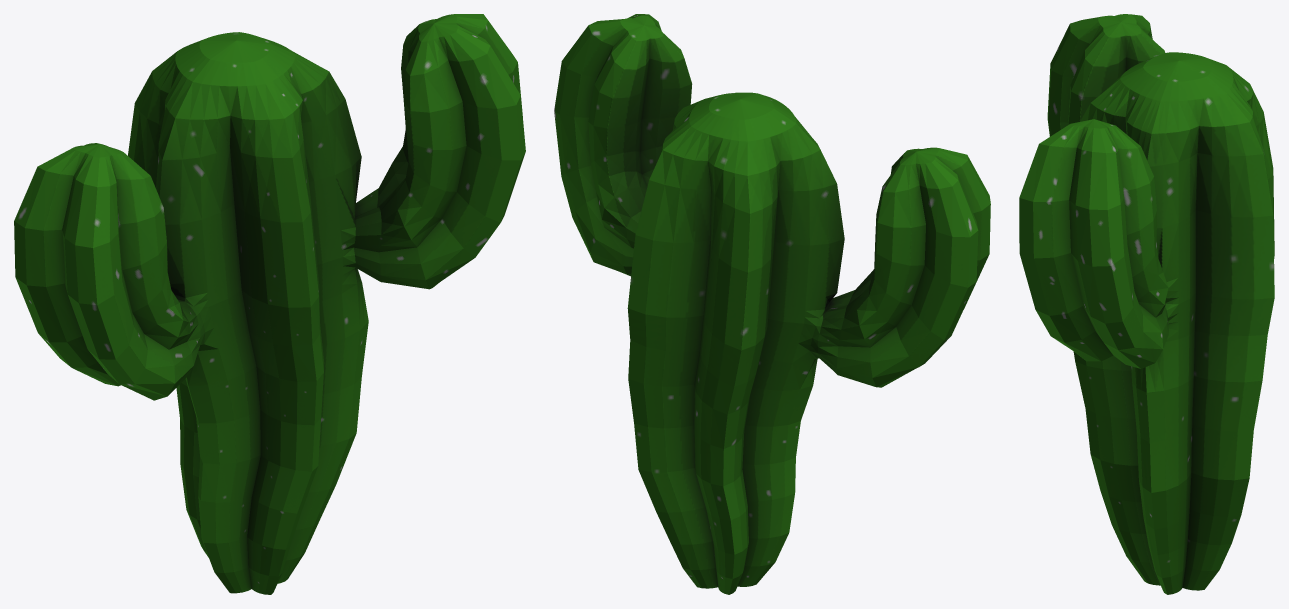
File: SmallCactus.dae
The picture shows the model from 3 angles, left to right: view 1: azimuth 30°, elevation 25°; view 2: azimuth 150°, elevation 25°; view 3: azimuth 270°, elevation 25°; orthographic projection. The views are drawn at different scales.
Parts seen in each view (by area): view 1: Circle_001; view 2: Circle_001; view 3: Circle_001.
Boxes of the visible parts, left/top/right/bottom form: Circle_001: left=14, top=14, right=525, bottom=594; Circle_001: left=554, top=14, right=990, bottom=594; Circle_001: left=1019, top=14, right=1274, bottom=594.
Size of the model in its own units: 17.77 by 19.62 by 8.63.
1 material, 1 textured.
